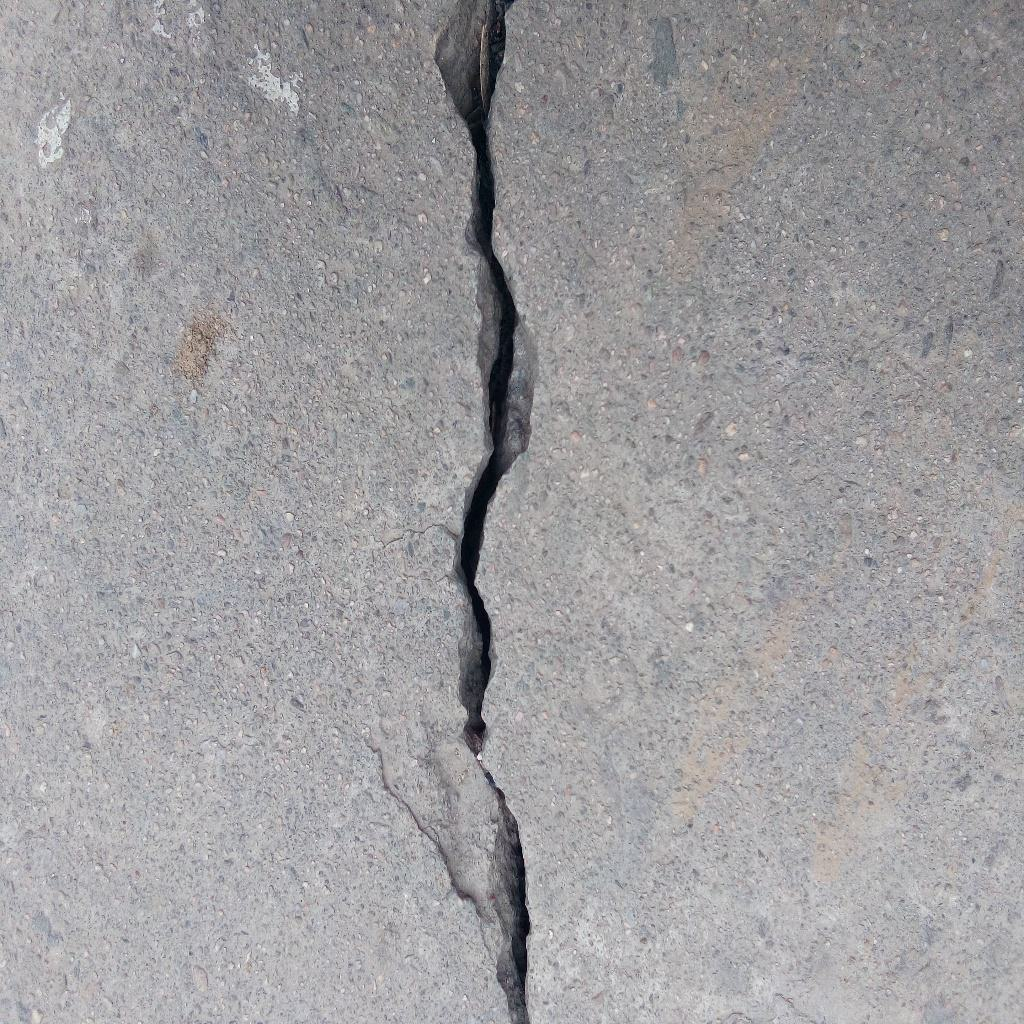Crack: (434, 1, 540, 1024)
